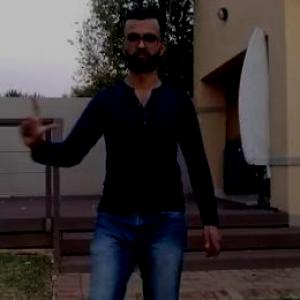land_hand: (16, 91, 67, 156)
